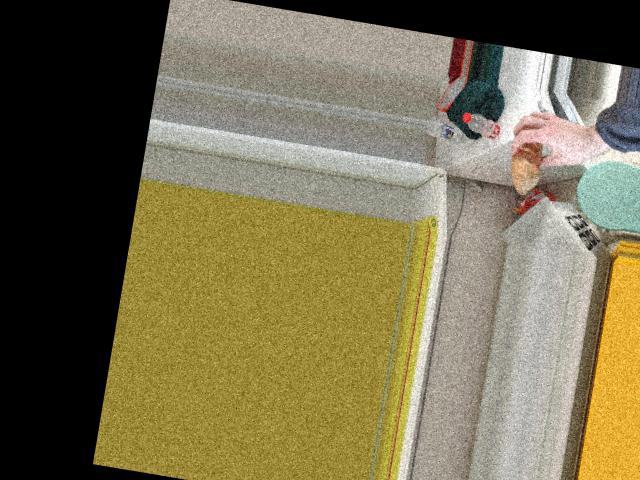sweet_potato: (508, 135, 544, 184)
